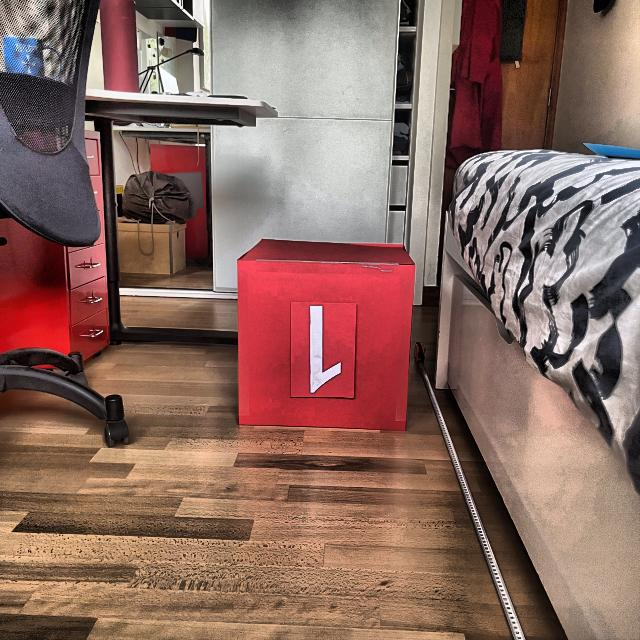one: (308, 304, 342, 394)
red box: (241, 242, 406, 426)
